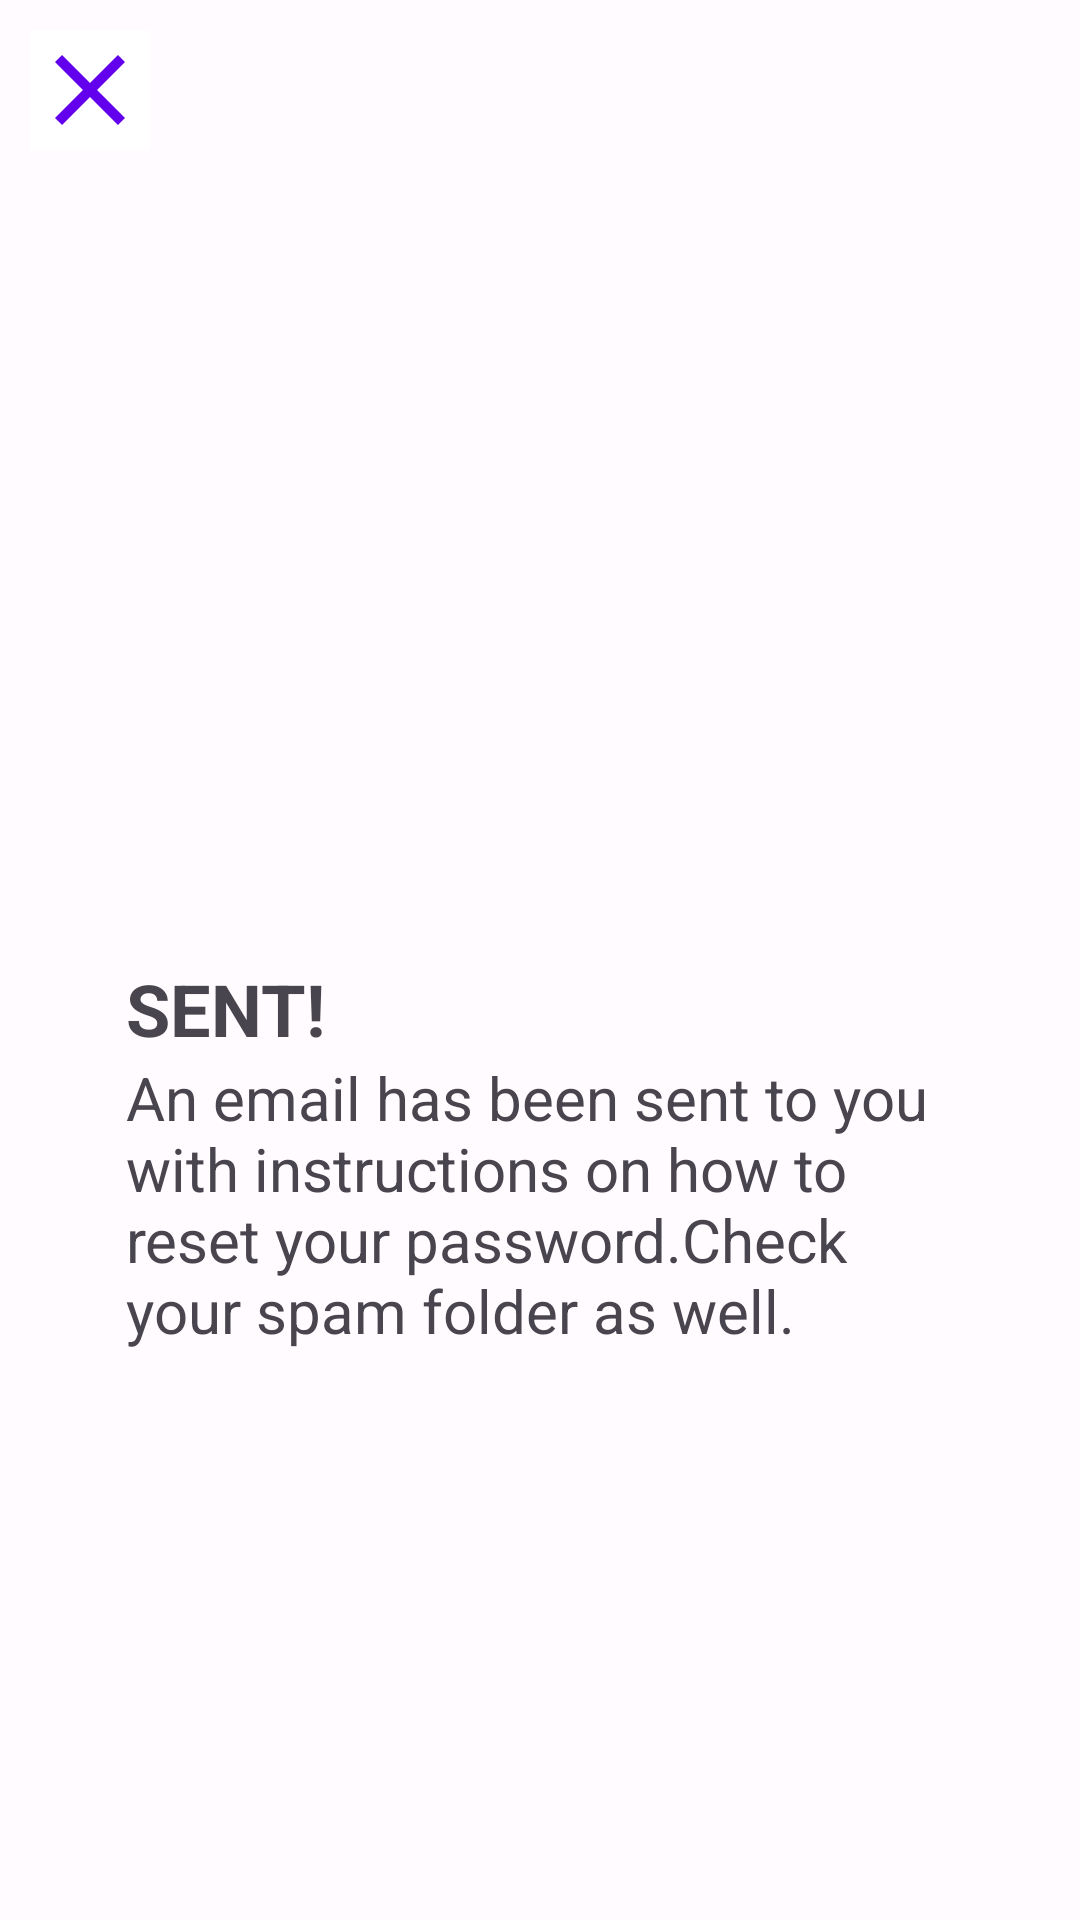

Locate icon controls on the screen. Image size 1080 x 1920, boxes as (left=x1, top=y1, right=x2, bottom=y2).
close: (left=55, top=55, right=125, bottom=125)
